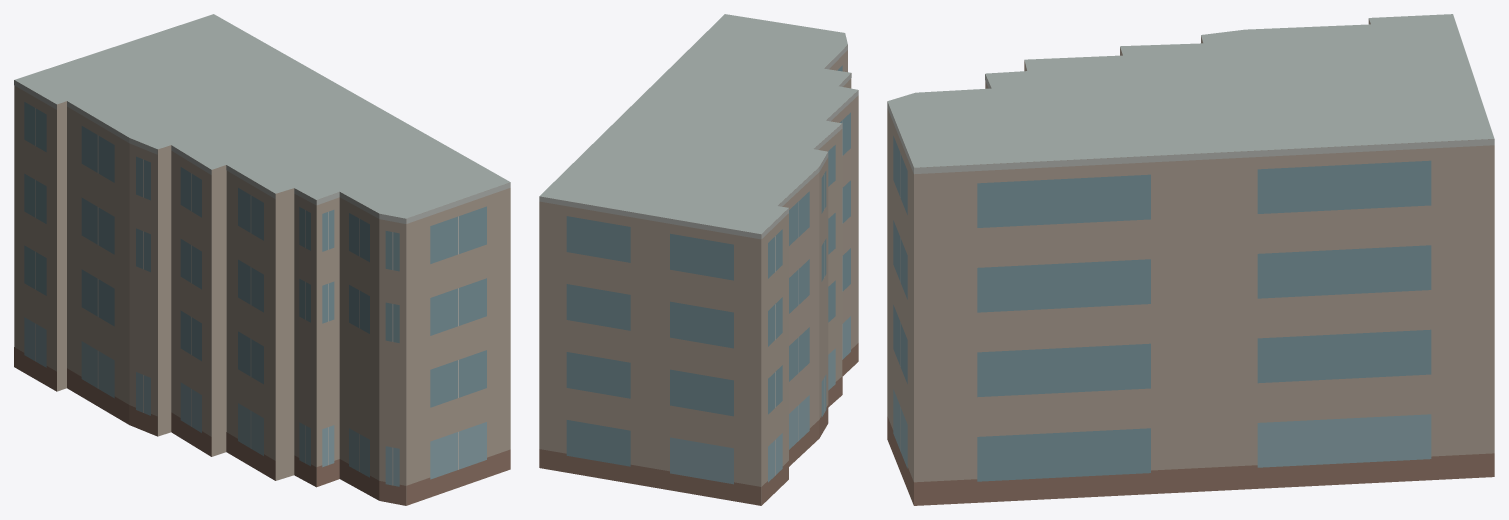
The model's file is survey-upis-32745864.glb.
The picture shows the model from 3 angles, left to right: view 1: azimuth 30°, elevation 25°; view 2: azimuth 150°, elevation 25°; view 3: azimuth 270°, elevation 25°; orthographic projection. The views are drawn at different scales.
Visible parts, largest first — view 1: survey-upis-32745864.tmp; view 2: survey-upis-32745864.tmp; view 3: survey-upis-32745864.tmp.
Part boxes in pixels (x1,y1,x2,y2): survey-upis-32745864.tmp: (14, 14, 510, 505); survey-upis-32745864.tmp: (539, 14, 858, 505); survey-upis-32745864.tmp: (887, 14, 1494, 505).
Bounding box in the file's own units: 12.49 × 12.8 × 20.84.
